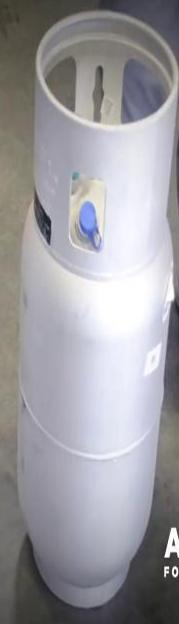cylinder: (1, 0, 179, 624)
